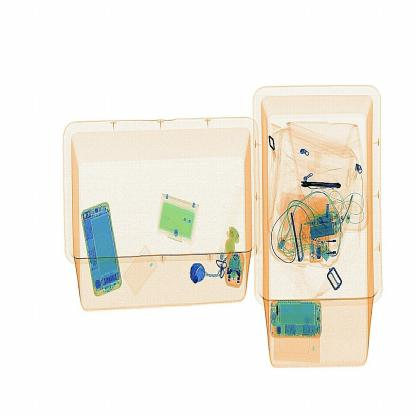knife: (300, 177, 347, 191)
